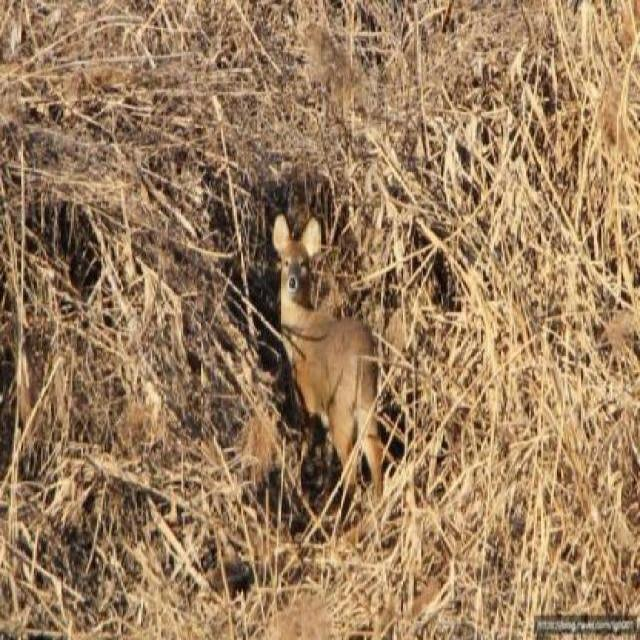deer: (262, 205, 393, 538)
